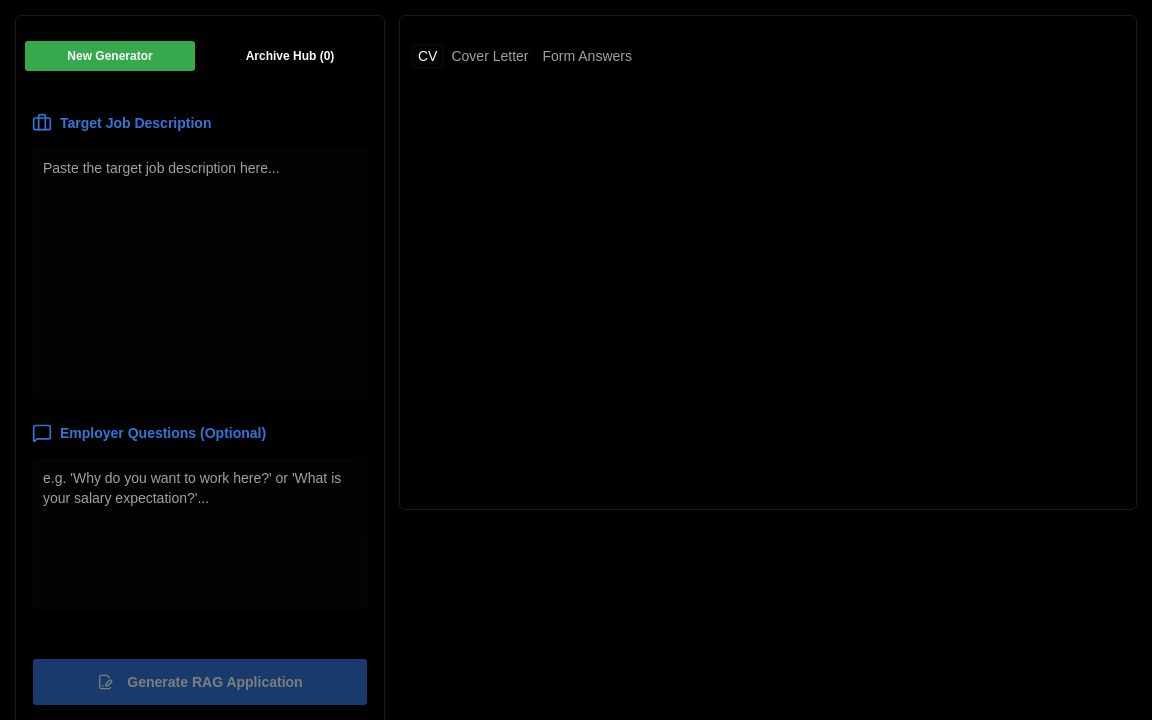
Scenario: Suite D: Frontend React Router DOM / Tailor › D4. Entering Job text unlocks Generate button
Type "I need a dev" into the text box with placeholder "Paste the target job description here..." at (200, 274), box [32, 149, 368, 399]
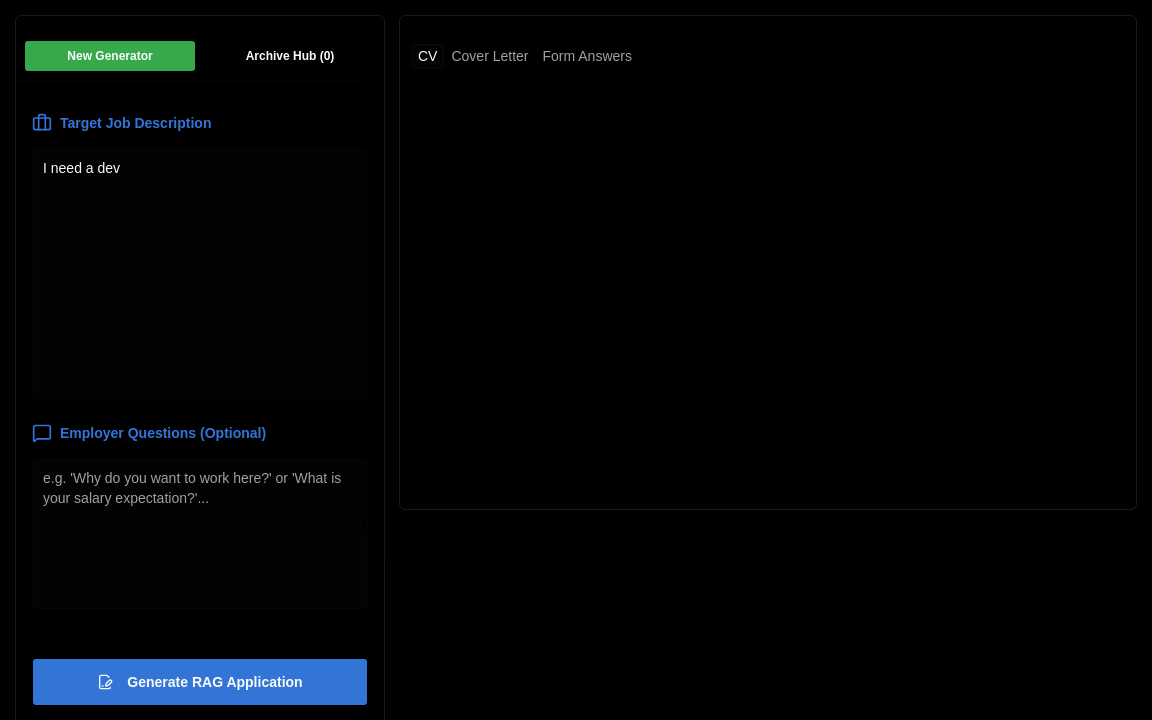
Check: the button "Generate RAG Application" is enabled, box [32, 658, 368, 706]
